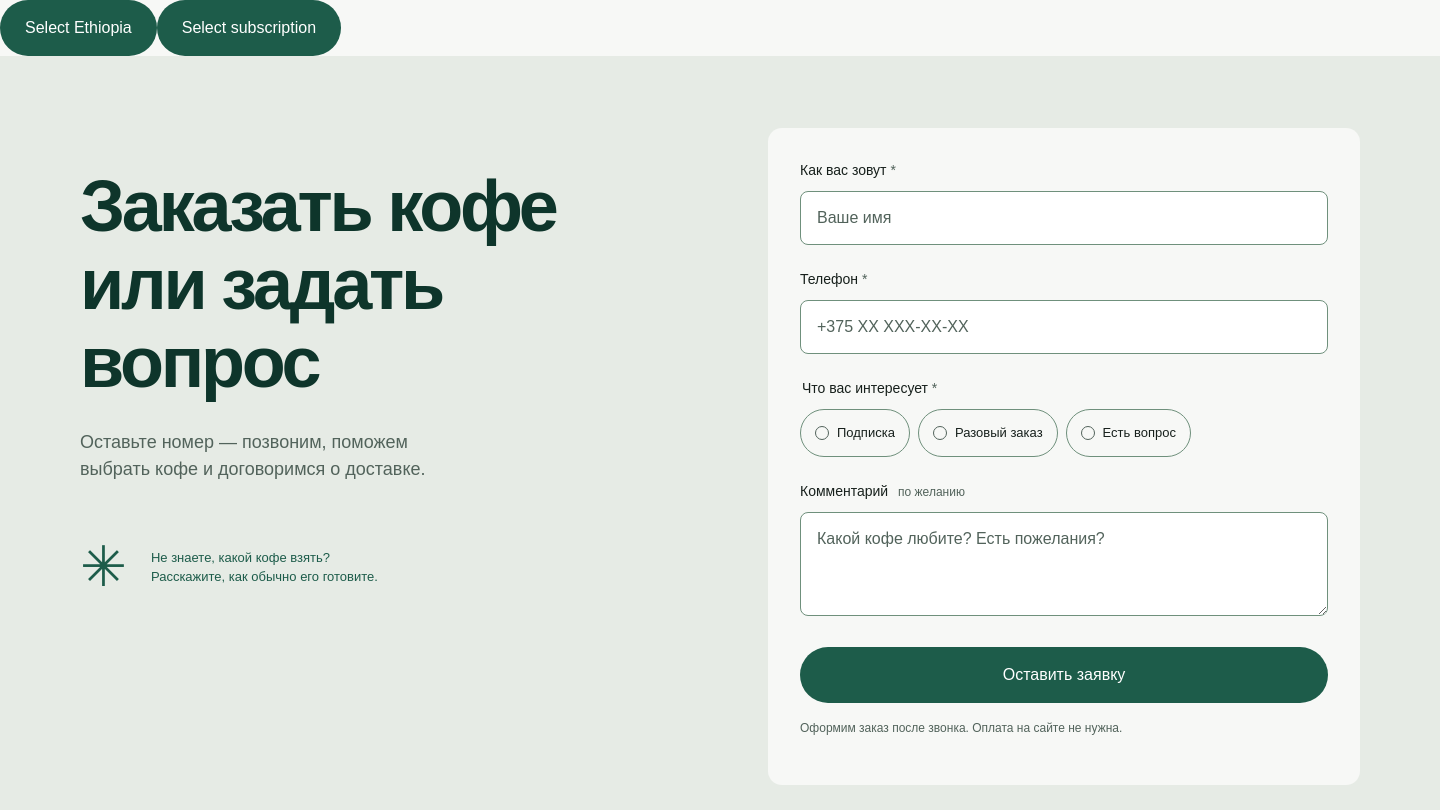
Test case: sends one immutable request while duplicate submit events are pending
The image size is (1440, 810).
Type "Тест" into the field labelled "Как вас зовут *" at point(1064, 218), box [800, 191, 1328, 245]
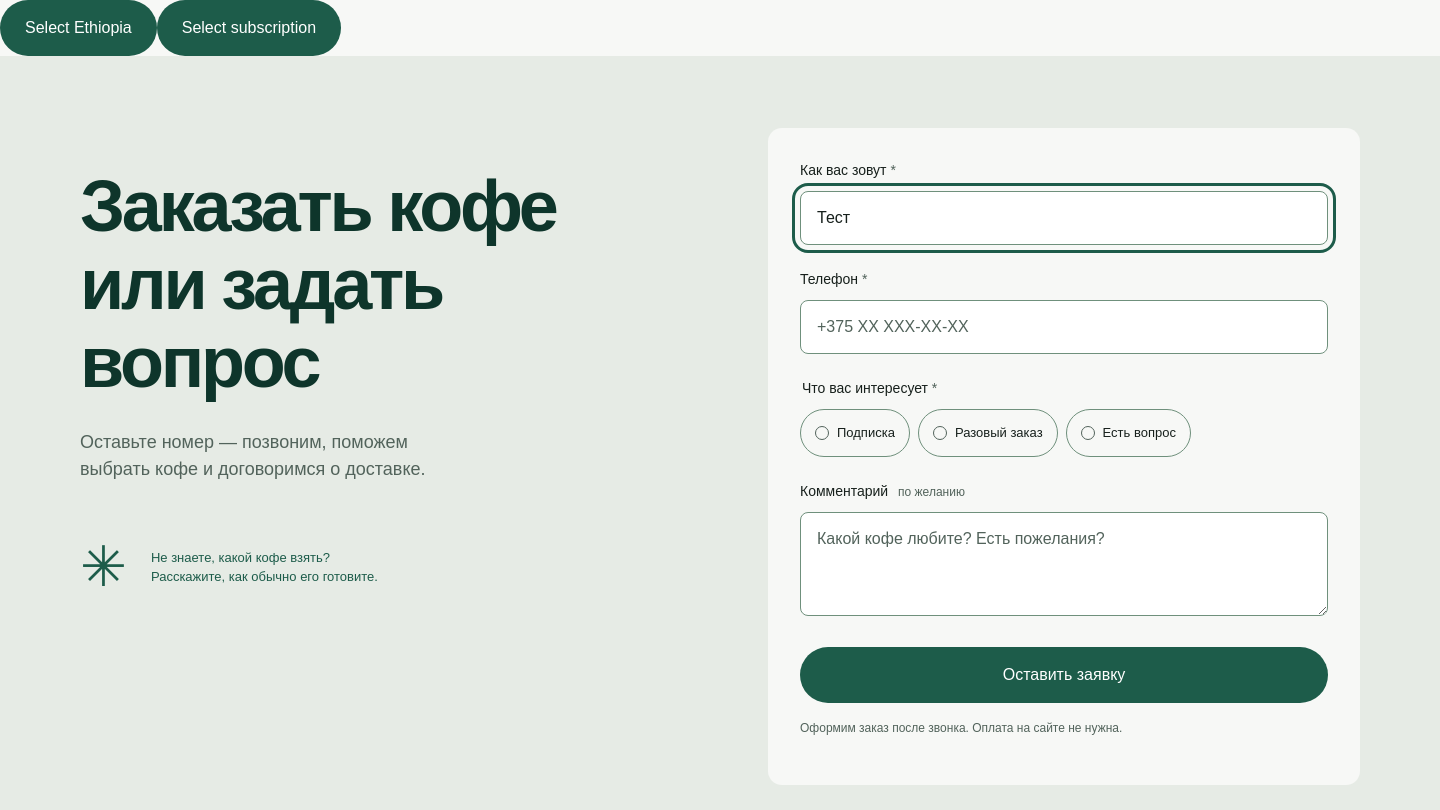
Type "+375291234567" into the field labelled "Телефон *" at point(1064, 327), box [800, 300, 1328, 354]
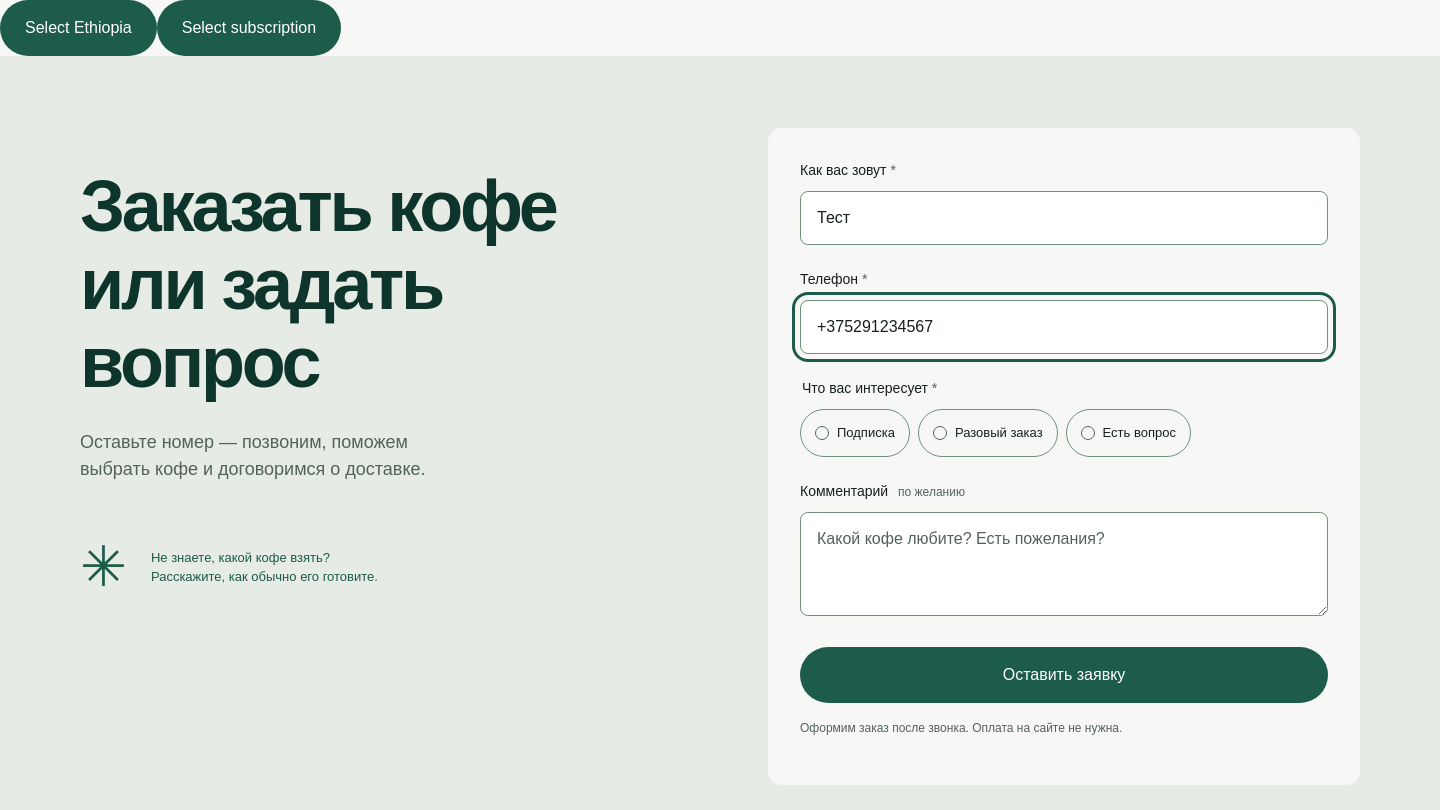
Click the radio button labelled "Есть вопрос" at point(1128, 433), box [1066, 409, 1191, 457]
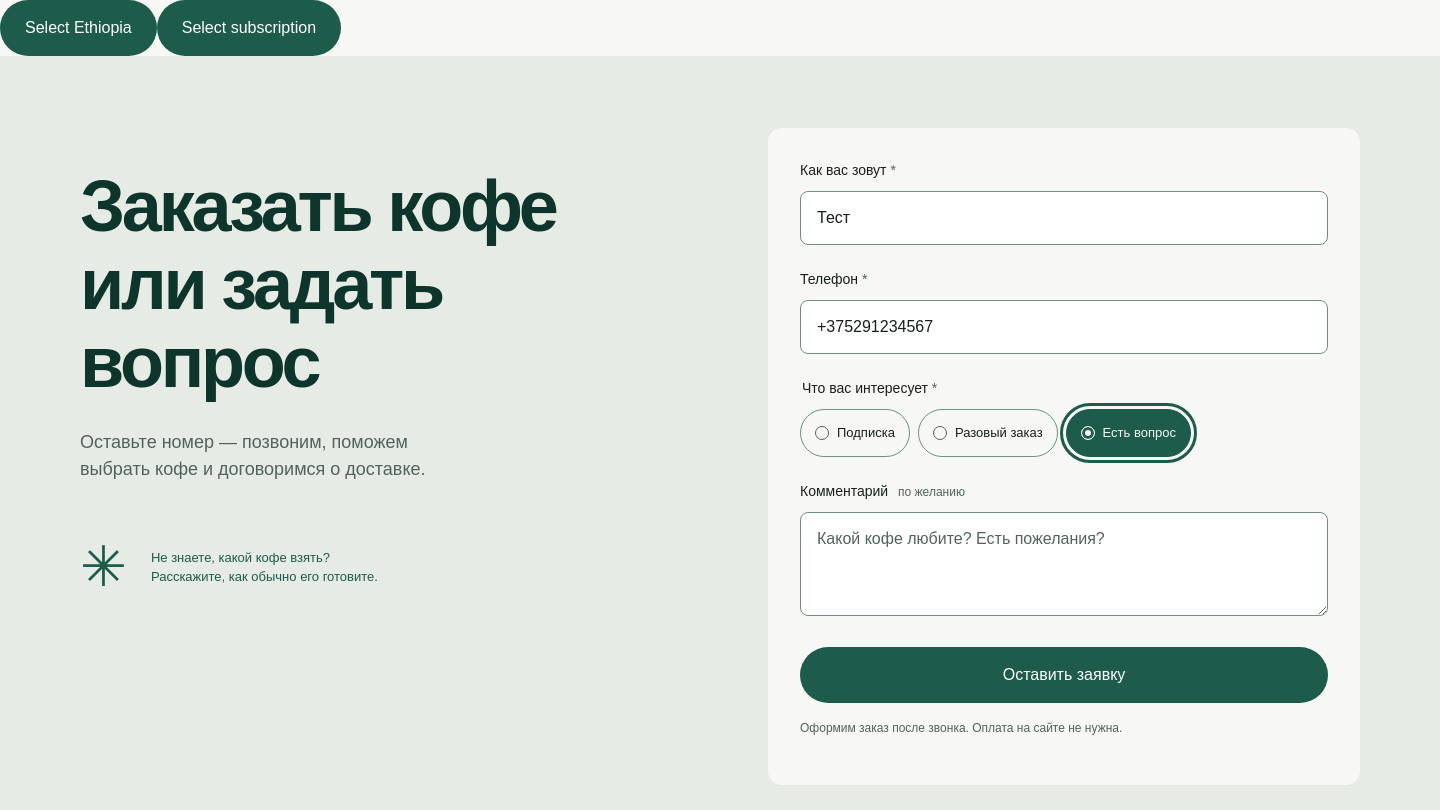
Submit the form named "Оставить заявку", box [768, 128, 1360, 785]
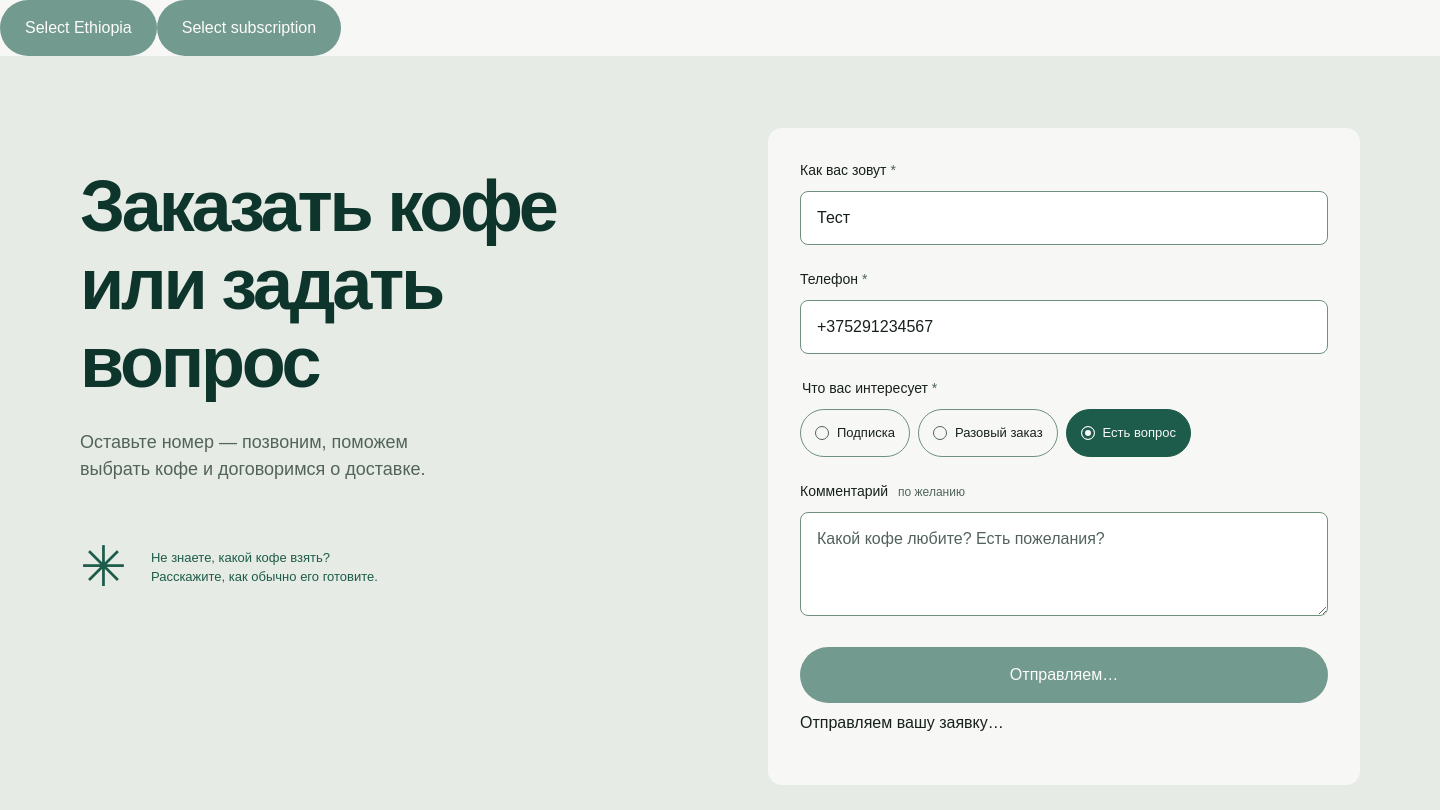
Submit the form named "Оставить заявку", box [768, 128, 1360, 785]
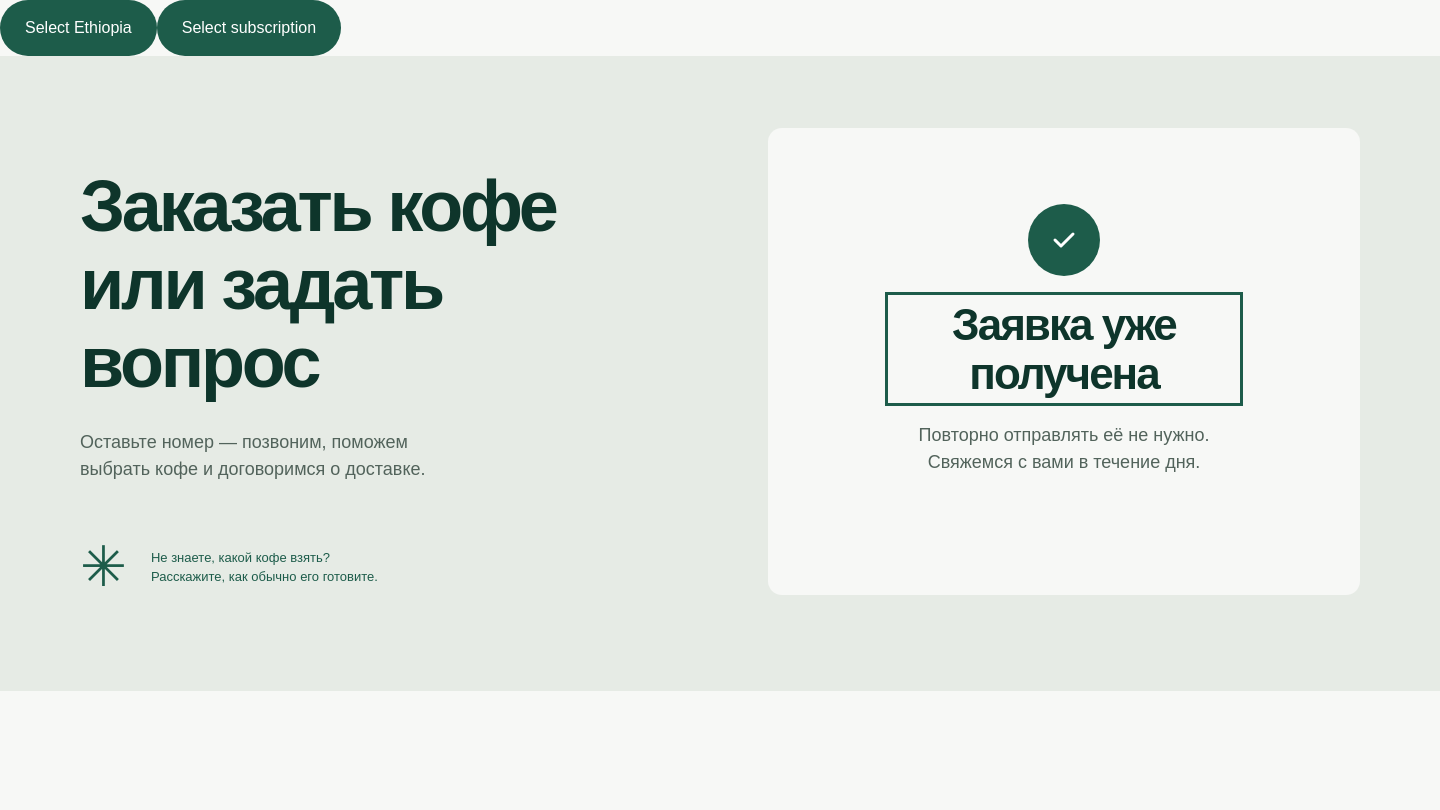
Expected: the heading "Заявка уже получена" is shown, [952, 300, 1176, 398]
